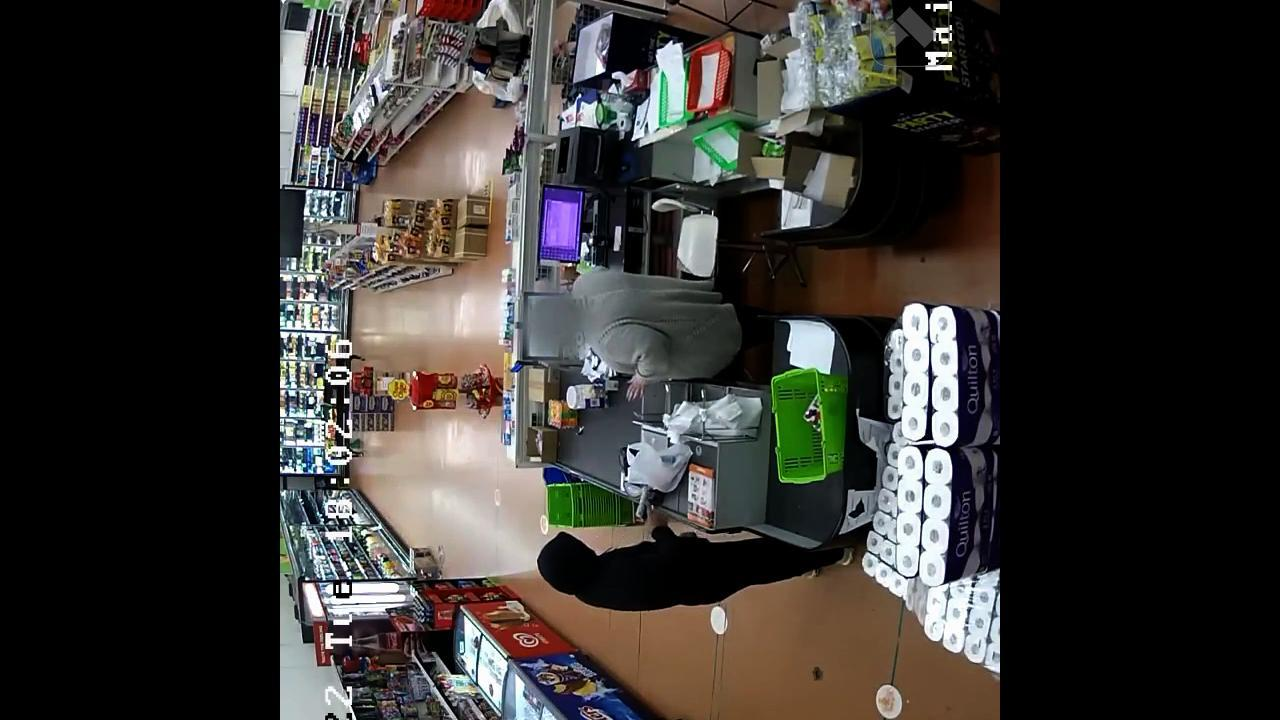gun: (626, 480, 662, 522)
